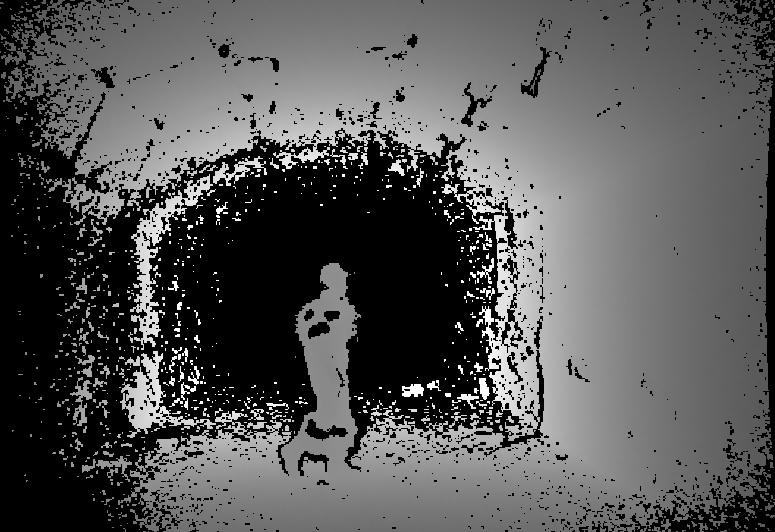person: (280, 261, 363, 476)
